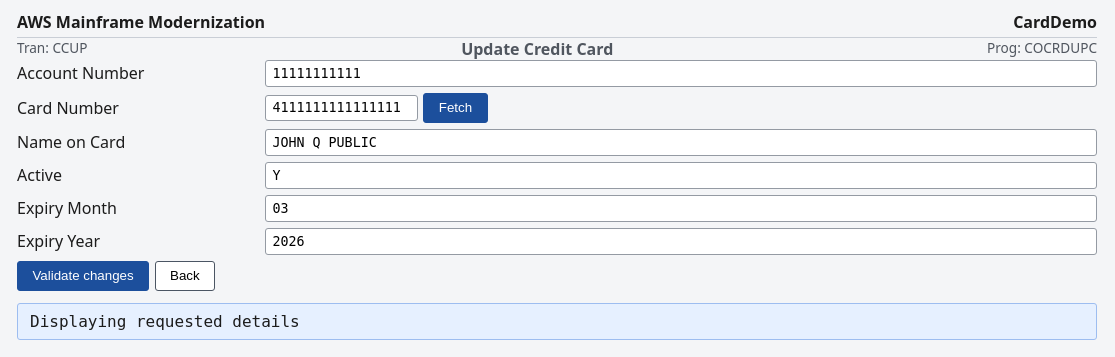
Scenario: Card update screen › reports a record another operator changed in the meantime
This screenshot has width=1115, height=357.
Replace the text in the field labelled "Name on Card" with "JANE Q PUBLIC". click: (681, 142)
box: [265,129,1097,156]
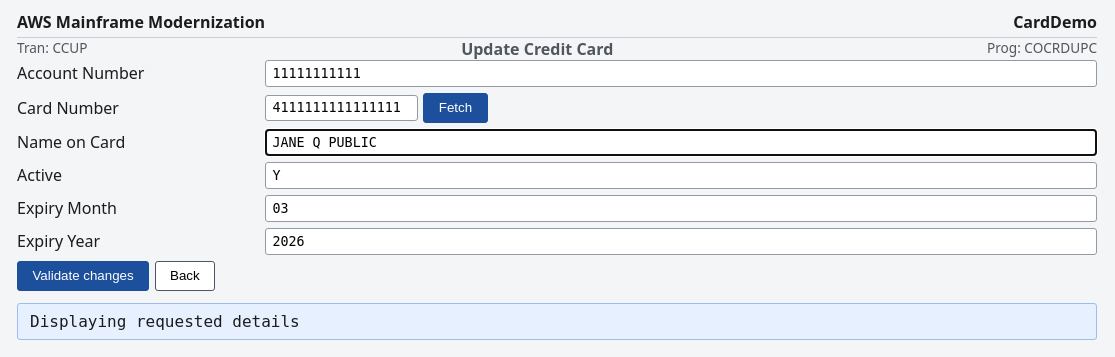
Click the button "Validate changes". click: (83, 276)
box: [17,261,149,291]
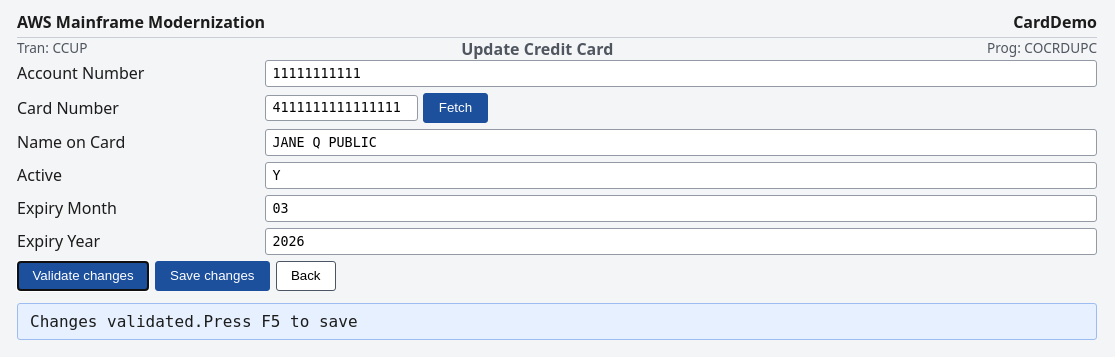
Click the button "Save changes". click: (212, 276)
box: [155,261,270,291]
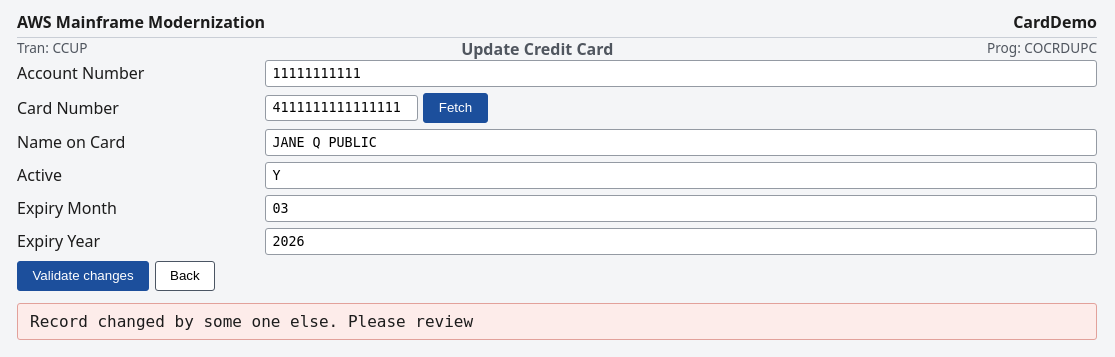
Check: the message reads "Record changed by some one else. Please review", box [30,312,473,331]
